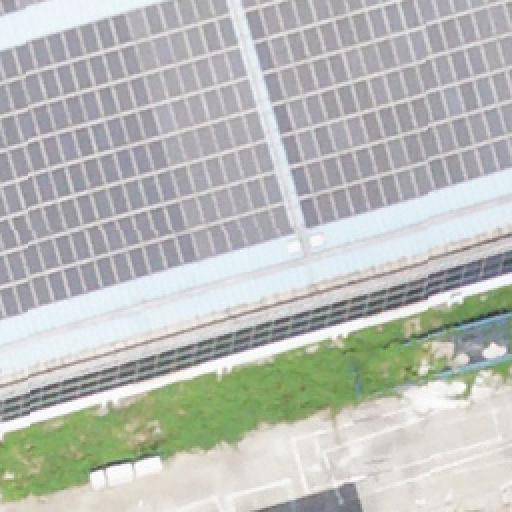solar-panel: (0, 0, 296, 320), (240, 0, 512, 232), (0, 0, 56, 16)
